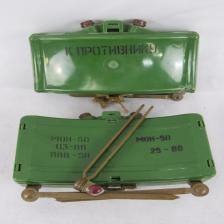MOH-50: (15, 110, 219, 202), (19, 16, 212, 103)
